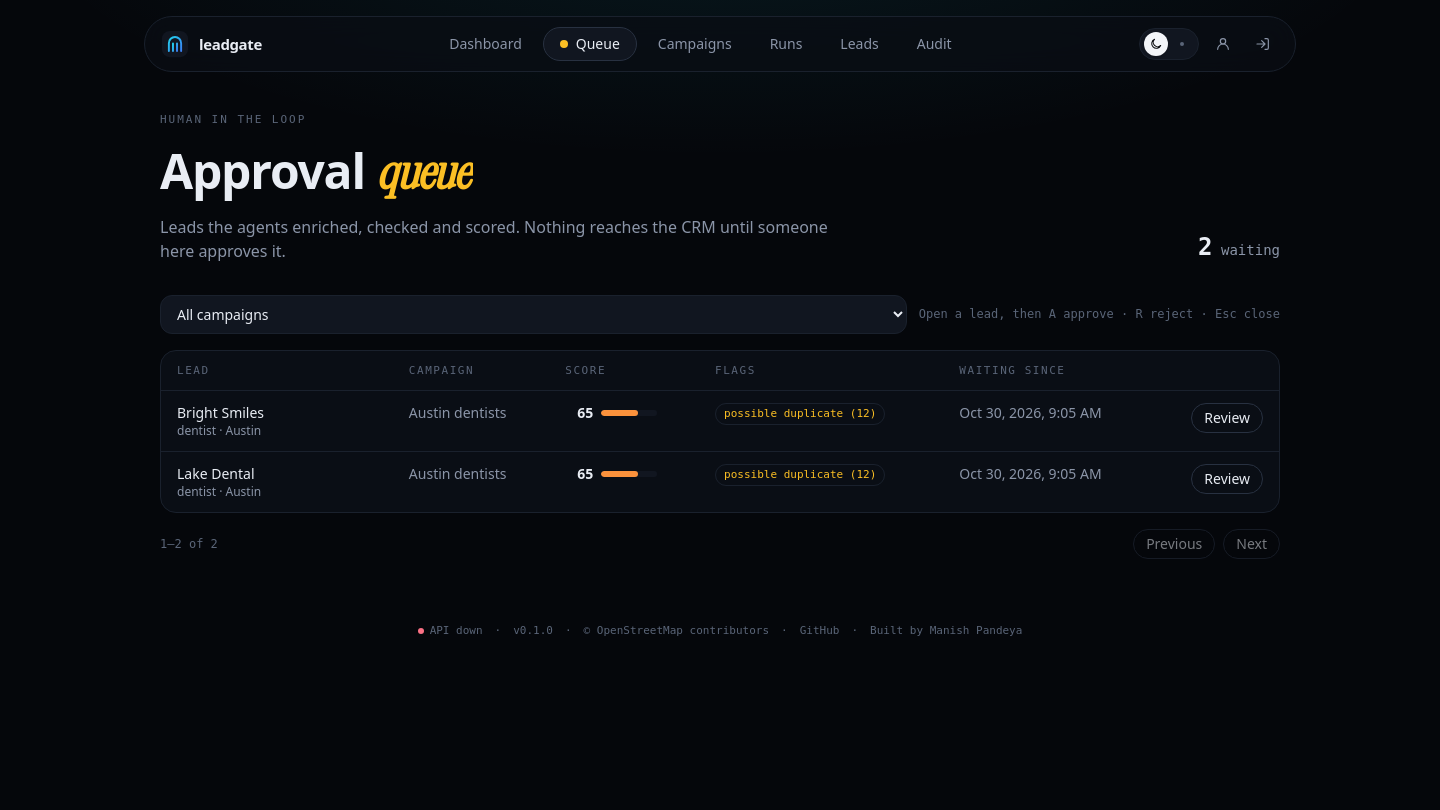
it: QueuePage › approves with the A key, then opens the next lead
Click the text "Bright Smiles" at [221, 413], box x1=177 y1=403 x2=264 y2=422
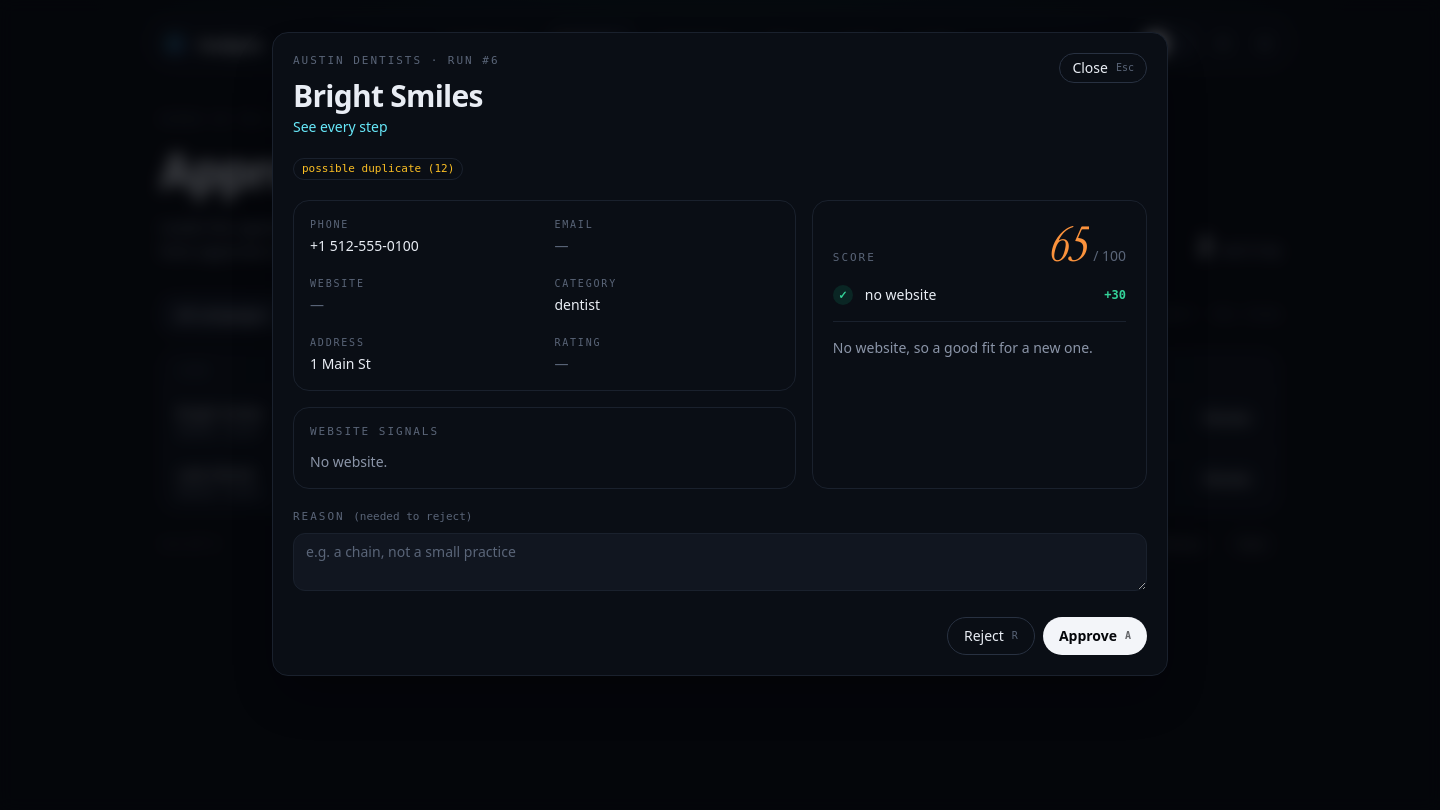
Type keys "a"
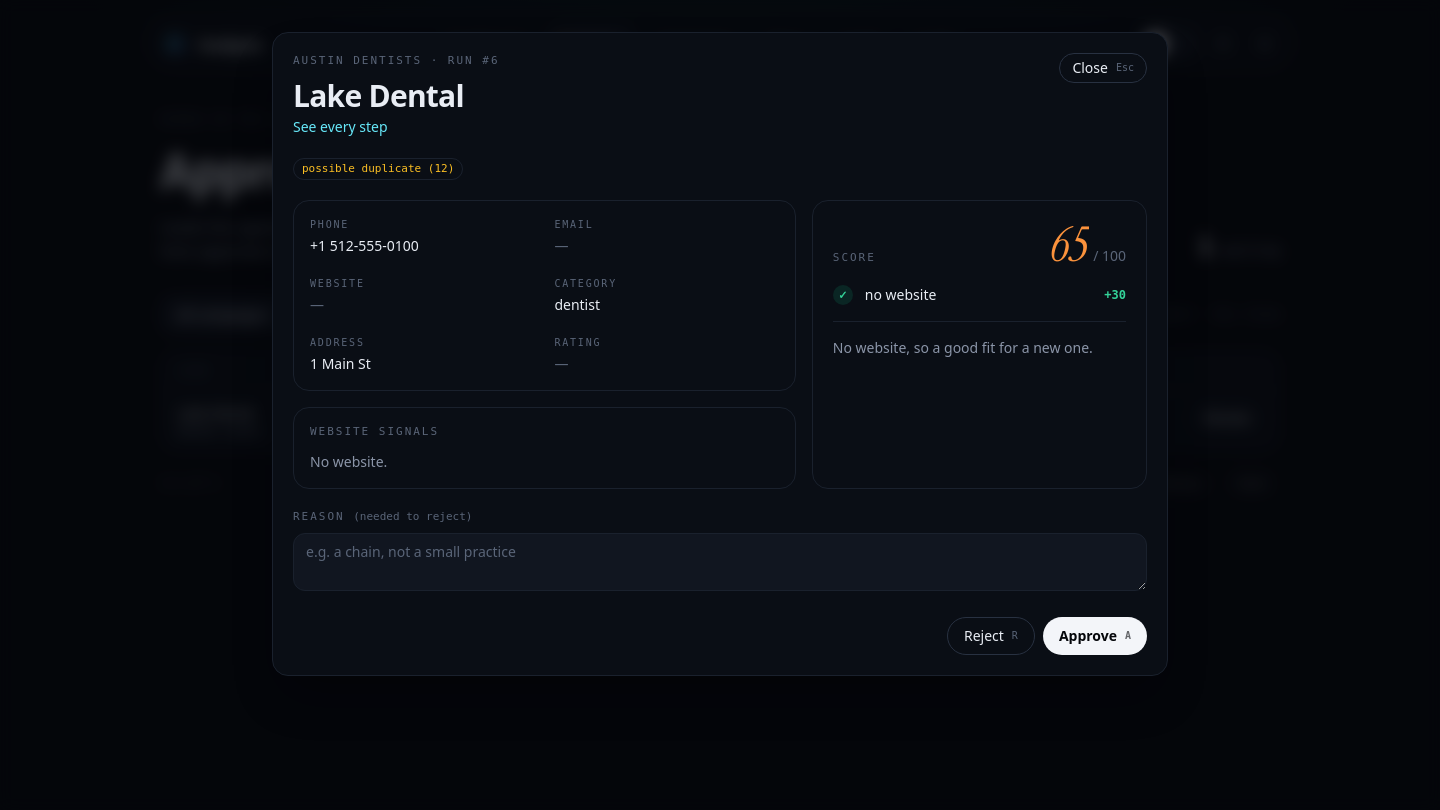
Now the heading "Lake Dental" is shown, box x1=293 y1=74 x2=464 y2=116
